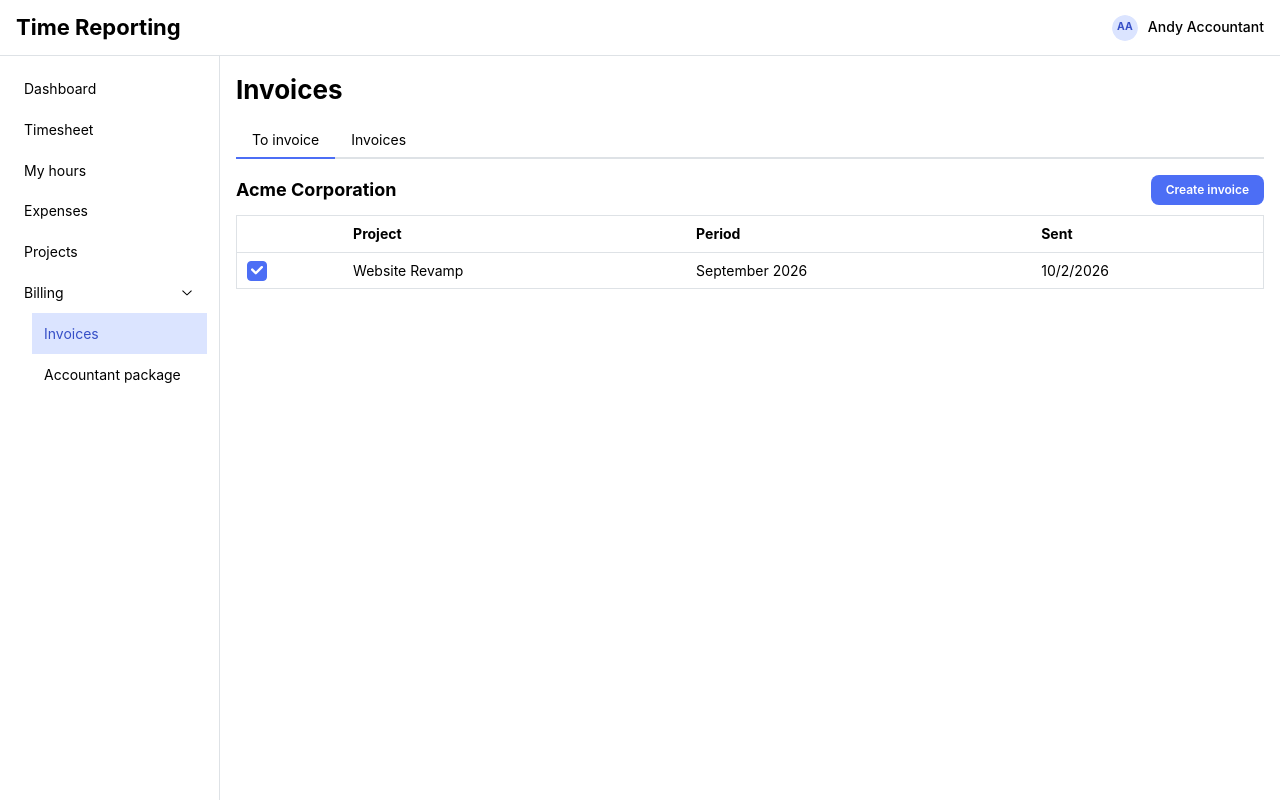
Test: InvoicesPage › does not invoice an unchecked period
Expected: the heading "Acme Corporation" is shown, 236,177 -> 396,203
Click the checkbox named "Website Revamp September 2026": [257, 271] box 247,261 -> 267,281
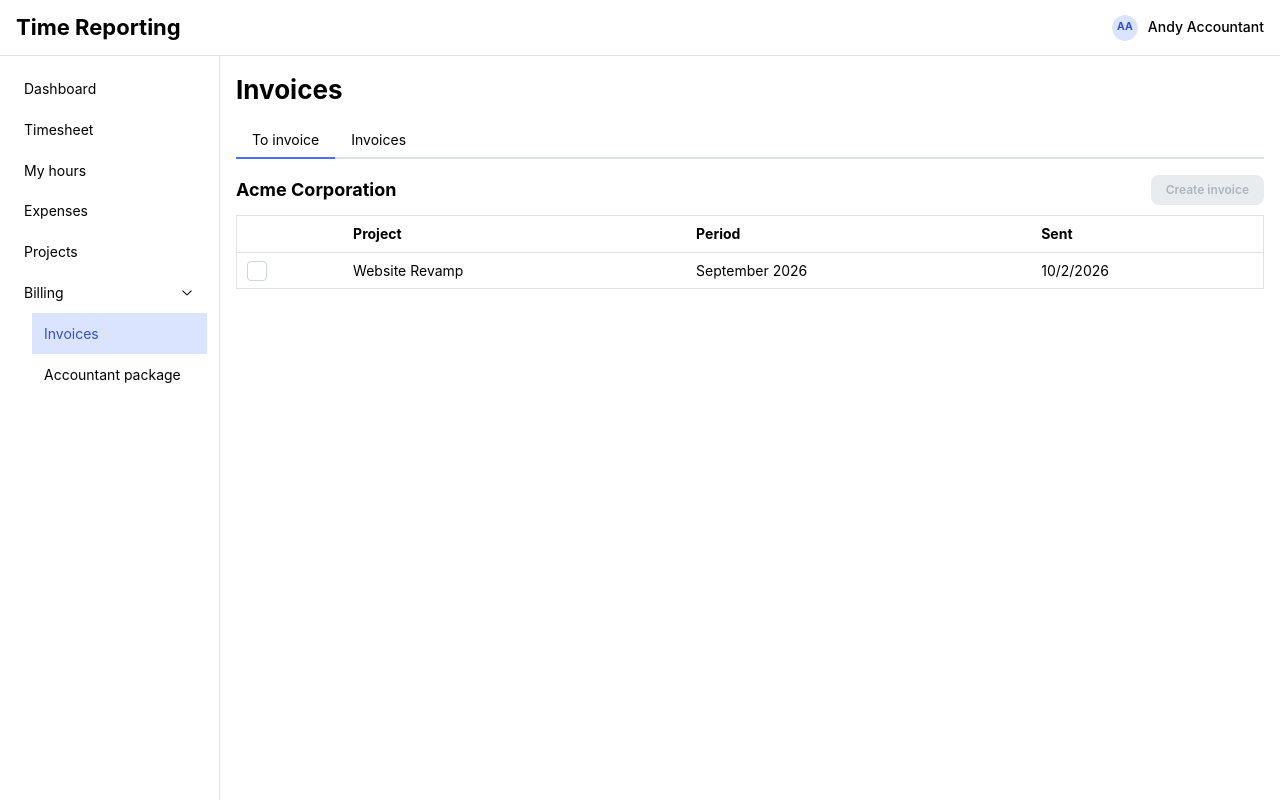
Expected: the button "Create invoice" is disabled, 1151,175 -> 1264,205
